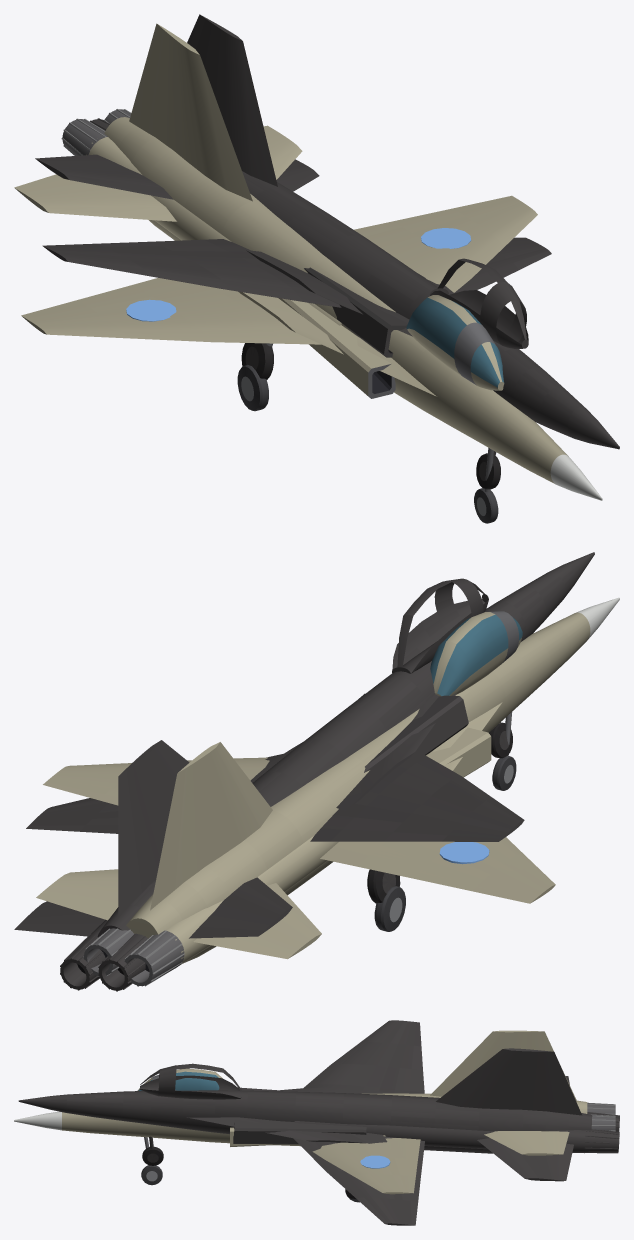
Rendered from lightFighter__kf_5e.glb.
The picture shows the model from 3 angles, top to bottom: view 1: azimuth 30°, elevation 25°; view 2: azimuth 150°, elevation 25°; view 3: azimuth 270°, elevation 25°; orthographic projection. The views are drawn at different scales.
Parts seen in each view (by area): view 1: Fuselage_Mesh, Wreck; view 2: Fuselage_Mesh, Wreck; view 3: Wreck, Fuselage_Mesh.
Boxes of the visible parts, <box> form: Fuselage_Mesh: <box>14,23,602,523</box>; Wreck: <box>35,14,619,489</box>; Fuselage_Mesh: <box>36,597,619,986</box>; Wreck: <box>14,552,594,991</box>; Wreck: <box>18,1020,619,1225</box>; Fuselage_Mesh: <box>14,1030,615,1202</box>.
Size of what is drawn, in the model's own units: 8.39 by 4.07 by 14.59.
